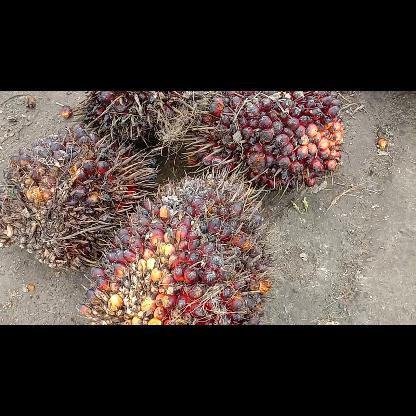TBS masak: (76, 166, 266, 324), (0, 122, 159, 269), (180, 90, 342, 194), (72, 90, 200, 146)
